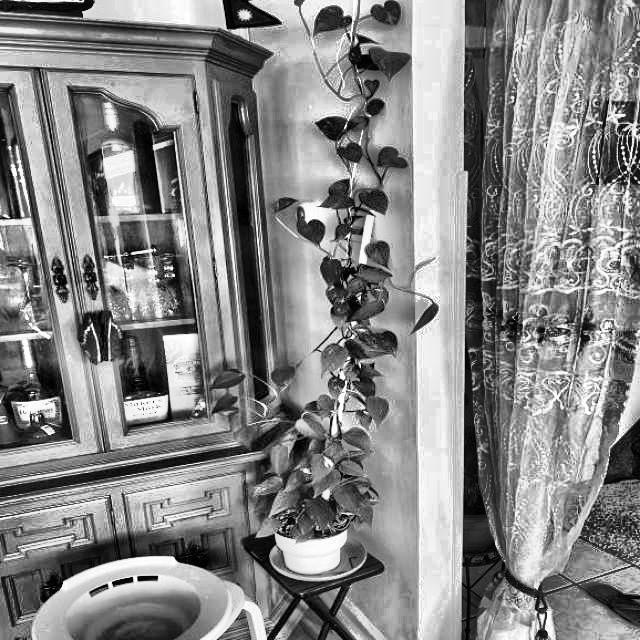plants: (282, 7, 398, 570)
